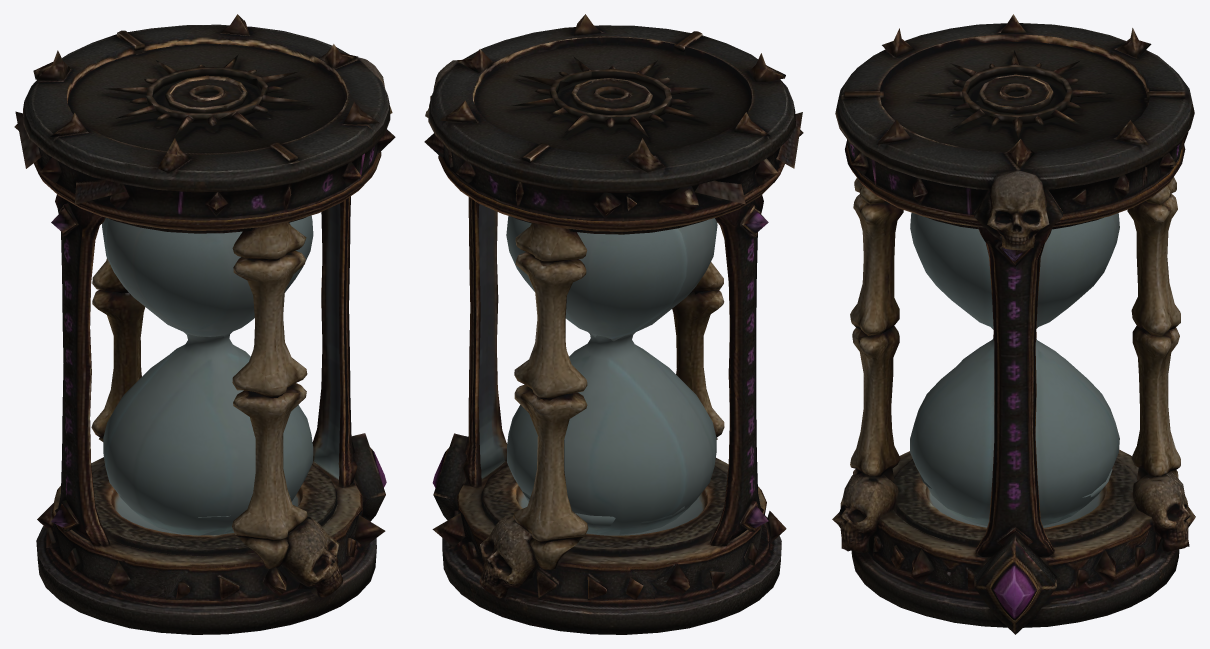
File: Hourglass.fbx
3 renders of one model, left to right at view 1: azimuth 30°, elevation 25°; view 2: azimuth 150°, elevation 25°; view 3: azimuth 270°, elevation 25°, orthographic.
Visible parts, largest first — view 1: tripo_part_0, tripo_part_2, tripo_part_1, tripo_part_3, tripo_part_15, tripo_part_9, tripo_part_5, tripo_part_6, tripo_part_7, tripo_part_13, tripo_part_16, tripo_part_12 (+7 smaller); view 2: tripo_part_0, tripo_part_2, tripo_part_1, tripo_part_3, tripo_part_15, tripo_part_9, tripo_part_4, tripo_part_7, tripo_part_6, tripo_part_10, tripo_part_16, tripo_part_12 (+8 smaller); view 3: tripo_part_0, tripo_part_2, tripo_part_1, tripo_part_9, tripo_part_3, tripo_part_4, tripo_part_6, tripo_part_5, tripo_part_7, tripo_part_20, tripo_part_8, tripo_part_13 (+4 smaller).
Part boxes in pixels (bbox=[...]): tripo_part_0: bbox=[23, 24, 390, 233]; tripo_part_2: bbox=[36, 457, 376, 634]; tripo_part_1: bbox=[103, 332, 313, 535]; tripo_part_3: bbox=[102, 215, 313, 337]; tripo_part_15: bbox=[55, 194, 109, 546]; tripo_part_9: bbox=[312, 196, 357, 487]; tripo_part_5: bbox=[232, 222, 307, 398]; tripo_part_6: bbox=[232, 383, 307, 568]; tripo_part_7: bbox=[91, 290, 145, 441]; tripo_part_13: bbox=[281, 516, 342, 597]; tripo_part_16: bbox=[146, 66, 309, 126]; tripo_part_12: bbox=[165, 75, 247, 112]; tripo_part_0: bbox=[428, 25, 795, 234]; tripo_part_2: bbox=[442, 458, 781, 634]; tripo_part_1: bbox=[507, 332, 716, 535]; tripo_part_3: bbox=[506, 216, 717, 341]; tripo_part_15: bbox=[710, 195, 763, 546]; tripo_part_9: bbox=[462, 197, 507, 488]; tripo_part_4: bbox=[514, 222, 587, 402]; tripo_part_7: bbox=[513, 384, 588, 569]; tripo_part_6: bbox=[672, 290, 724, 439]; tripo_part_10: bbox=[479, 515, 538, 598]; tripo_part_16: bbox=[518, 56, 672, 124]; tripo_part_12: bbox=[570, 78, 652, 114]; tripo_part_0: bbox=[835, 23, 1194, 229]; tripo_part_2: bbox=[851, 449, 1179, 627]; tripo_part_1: bbox=[910, 327, 1119, 526]; tripo_part_9: bbox=[975, 227, 1054, 557]; tripo_part_3: bbox=[910, 213, 1119, 329]; tripo_part_4: bbox=[1127, 177, 1180, 336]; tripo_part_6: bbox=[850, 326, 900, 481]; tripo_part_5: bbox=[850, 178, 903, 335]; tripo_part_7: bbox=[1131, 325, 1180, 480]; tripo_part_20: bbox=[974, 535, 1056, 634]; tripo_part_8: bbox=[987, 170, 1049, 250]; tripo_part_13: bbox=[832, 472, 898, 552].
Bounding box in the file's own units: 0.7339 × 1 × 0.6751.
